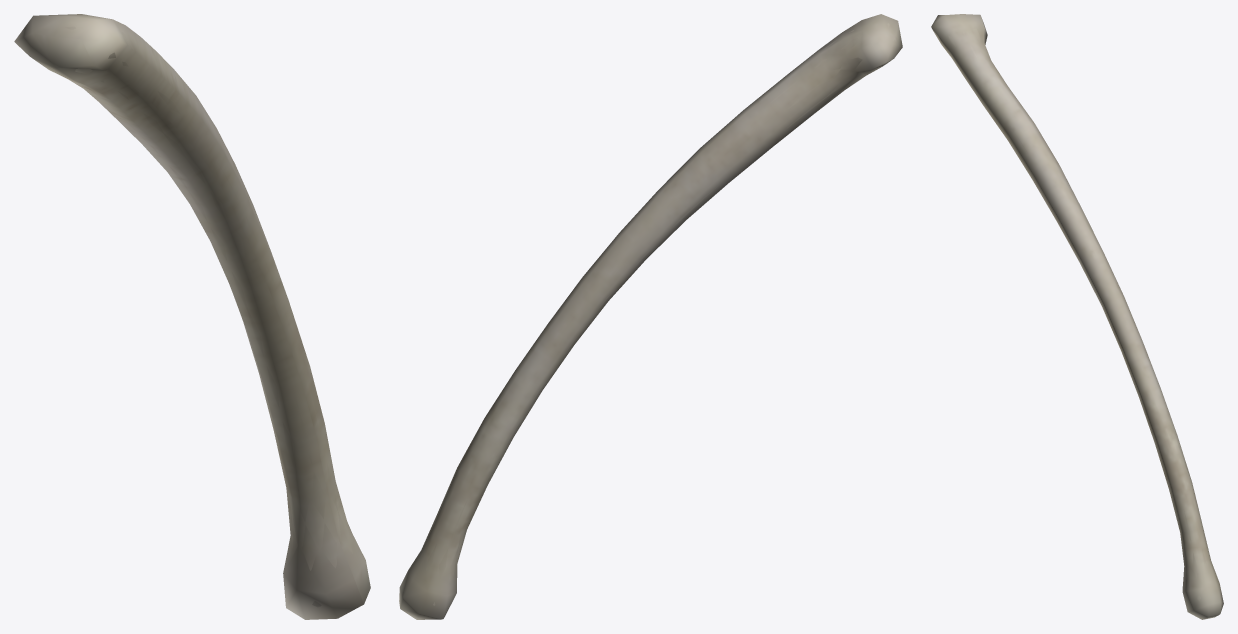
Rendered from Rib L10.fbx.
The picture shows the model from 3 angles, left to right: view 1: azimuth 30°, elevation 25°; view 2: azimuth 150°, elevation 25°; view 3: azimuth 270°, elevation 25°; orthographic projection. The views are drawn at different scales.
Parts seen in each view (by area): view 1: Rib L10 low, Rib L10; view 2: Rib L10 low, Rib L10; view 3: Rib L10 low, Rib L10.
Boxes of the visible parts, x1,y1,x2,y2 form: Rib L10 low: [14, 14, 370, 619]; Rib L10: [50, 26, 353, 607]; Rib L10 low: [399, 14, 902, 619]; Rib L10: [416, 23, 889, 605]; Rib L10 low: [931, 14, 1223, 619]; Rib L10: [936, 28, 1213, 601].
Bounding box in the file's own units: 3.19 × 4.85 × 2.7.
Materials: 1 (1 with a texture image).
